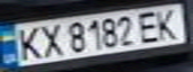1: (84, 16, 103, 51)
2: (115, 12, 139, 47)
8: (63, 18, 87, 53), (100, 15, 121, 48)
E: (133, 8, 166, 44)
K: (9, 24, 45, 62), (151, 6, 187, 40)
X: (33, 21, 66, 59)
